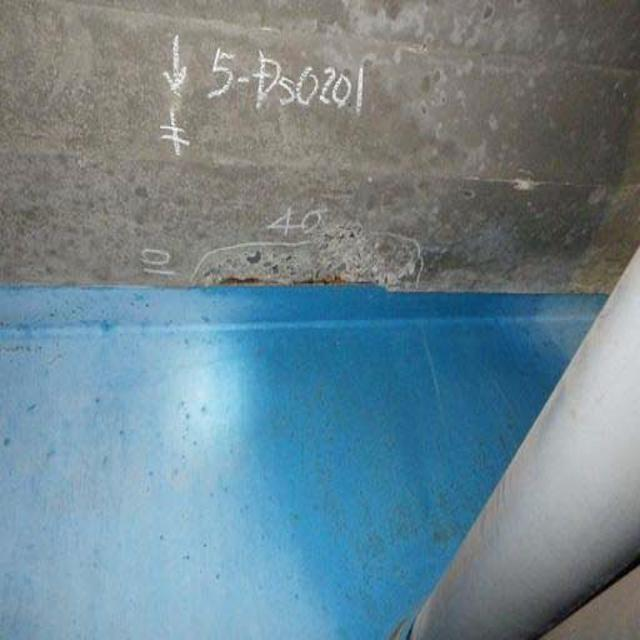spalling: (177, 202, 420, 308)
